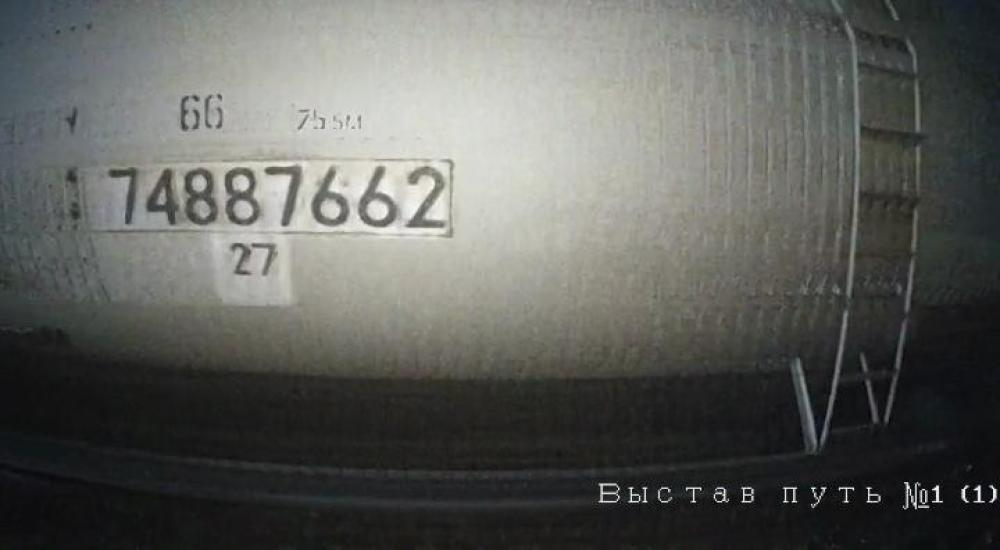Wagon-number: (100, 158, 449, 237)
